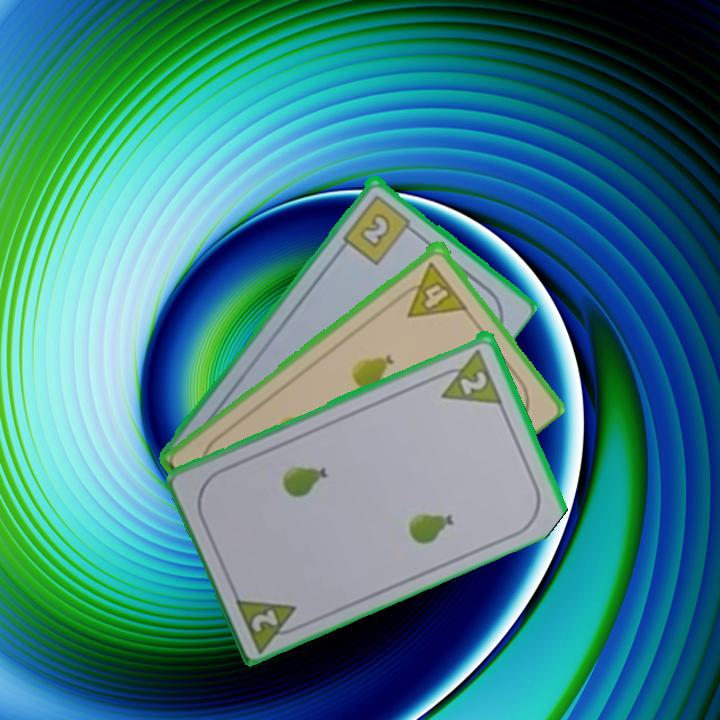2b: (339, 191, 419, 267)
2p: (456, 366, 490, 397), (248, 605, 282, 635)
4p: (392, 257, 469, 321)
